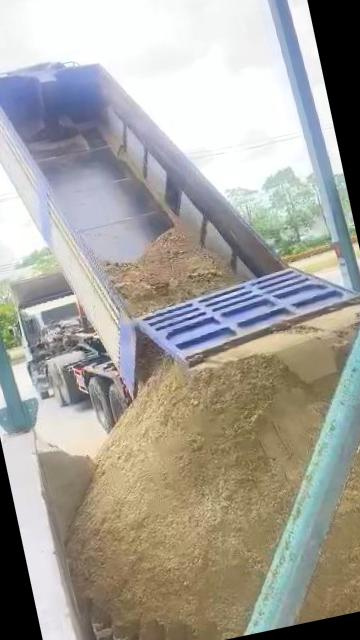sand: (68, 354, 336, 640), (300, 389, 360, 621), (207, 305, 360, 383), (106, 228, 241, 316), (39, 444, 92, 541), (138, 330, 165, 381)
